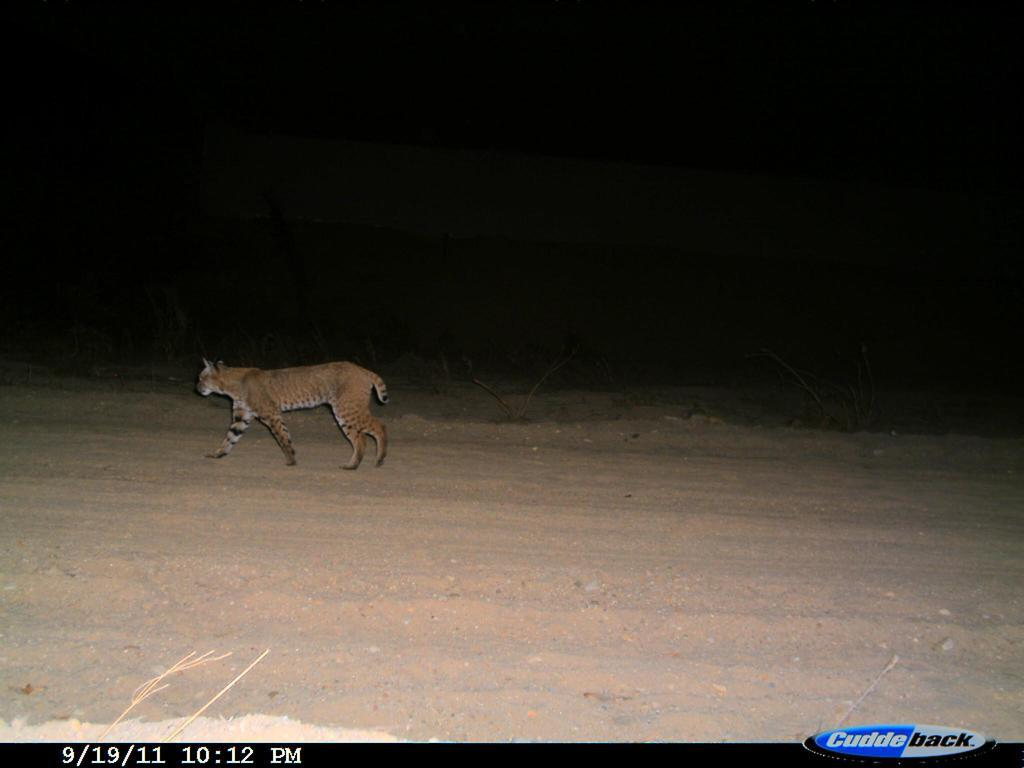bobcat: (123, 324, 469, 495)
